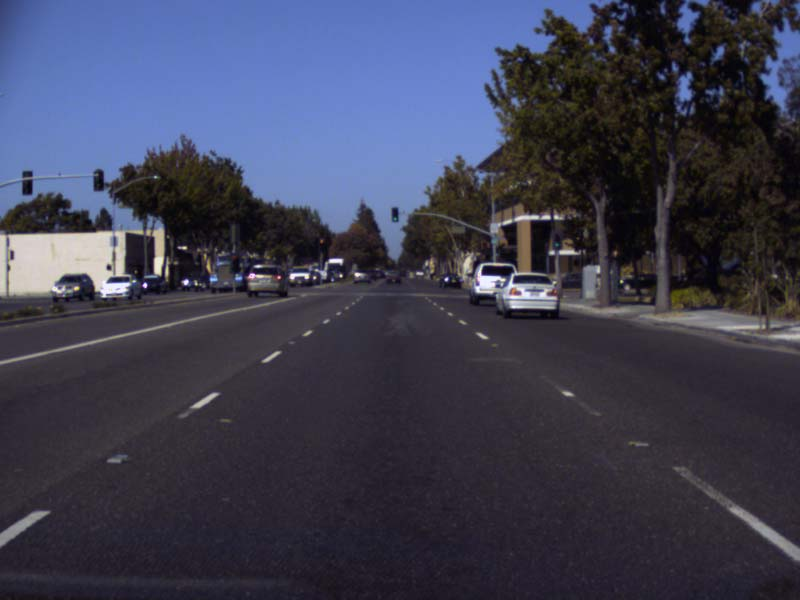Green: (553, 234, 560, 249), (392, 208, 397, 221)
Red: (231, 254, 239, 271), (318, 237, 324, 253)
